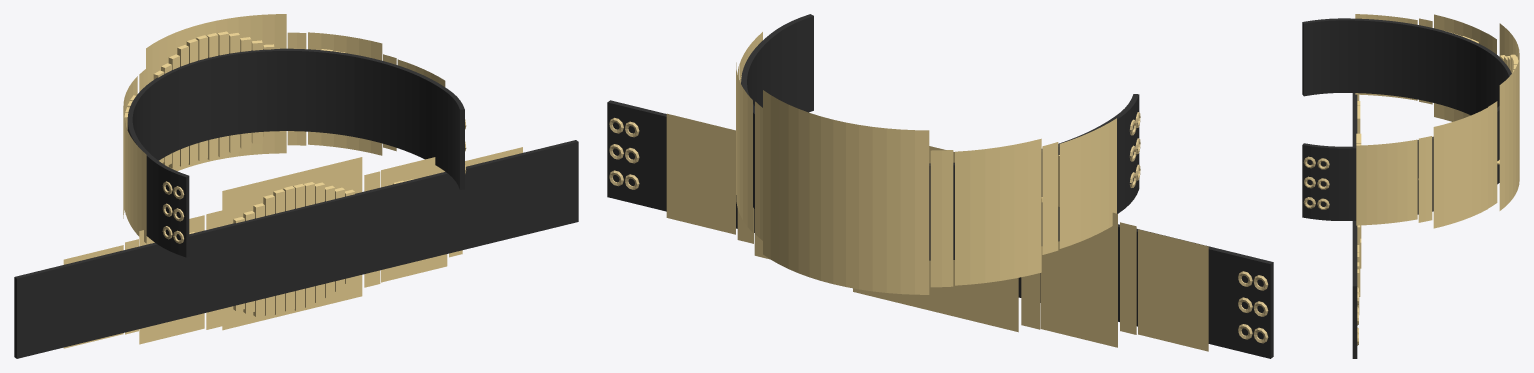
File: aew_title.glb
3 views of the same model, side by side, from view 1: azimuth 30°, elevation 25°; view 2: azimuth 150°, elevation 25°; view 3: azimuth 270°, elevation 25° (orthographic). The views are drawn at different scales.
Parts seen in each view (by area): view 1: HeldStrap, TitleStrap, TitleArt, HeldArt, TitleGold, HeldGold, TitleSnap; view 2: TitleArt, HeldArt, HeldStrap, TitleStrap, HeldSnap; view 3: TitleStrap, TitleArt, HeldStrap, TitleSnap, HeldGold, TitleGold.
Boxes of the visible parts, box(x1,y1,x2,y2) form: HeldStrap: box(14, 140, 578, 358); TitleStrap: box(127, 48, 464, 257); TitleArt: box(123, 14, 445, 243); HeldArt: box(63, 147, 522, 348); TitleGold: box(124, 31, 345, 179); HeldGold: box(152, 179, 413, 316); TitleSnap: box(162, 119, 466, 243); TitleArt: box(736, 32, 1116, 294); HeldArt: box(666, 113, 1208, 351); HeldStrap: box(607, 100, 1273, 358); TitleStrap: box(741, 14, 1139, 260); HeldSnap: box(609, 117, 1268, 343); TitleStrap: box(1302, 18, 1511, 220); TitleArt: box(1355, 14, 1519, 228); HeldStrap: box(1352, 93, 1357, 358); TitleSnap: box(1304, 156, 1329, 209); HeldGold: box(1356, 94, 1361, 314); TitleGold: box(1418, 31, 1518, 179).
Bounding box in the file's own units: 1.04 × 0.4027 × 0.3867.
